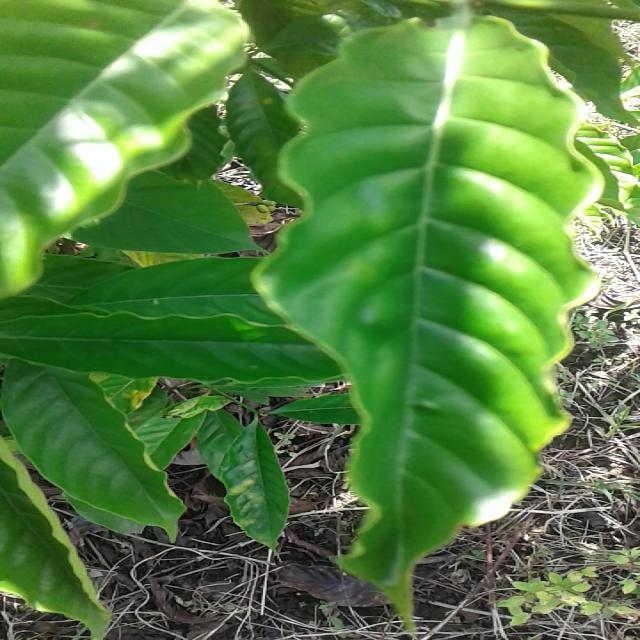Sanas: (251, 13, 610, 631)
